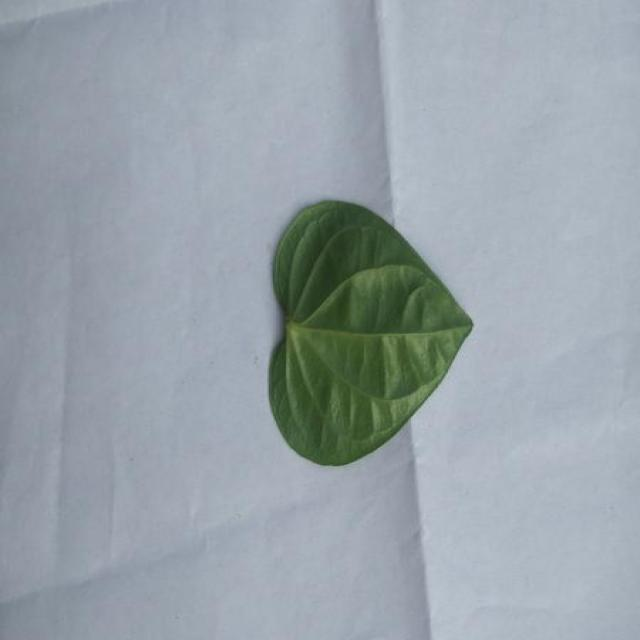betel: (270, 201, 472, 464)
